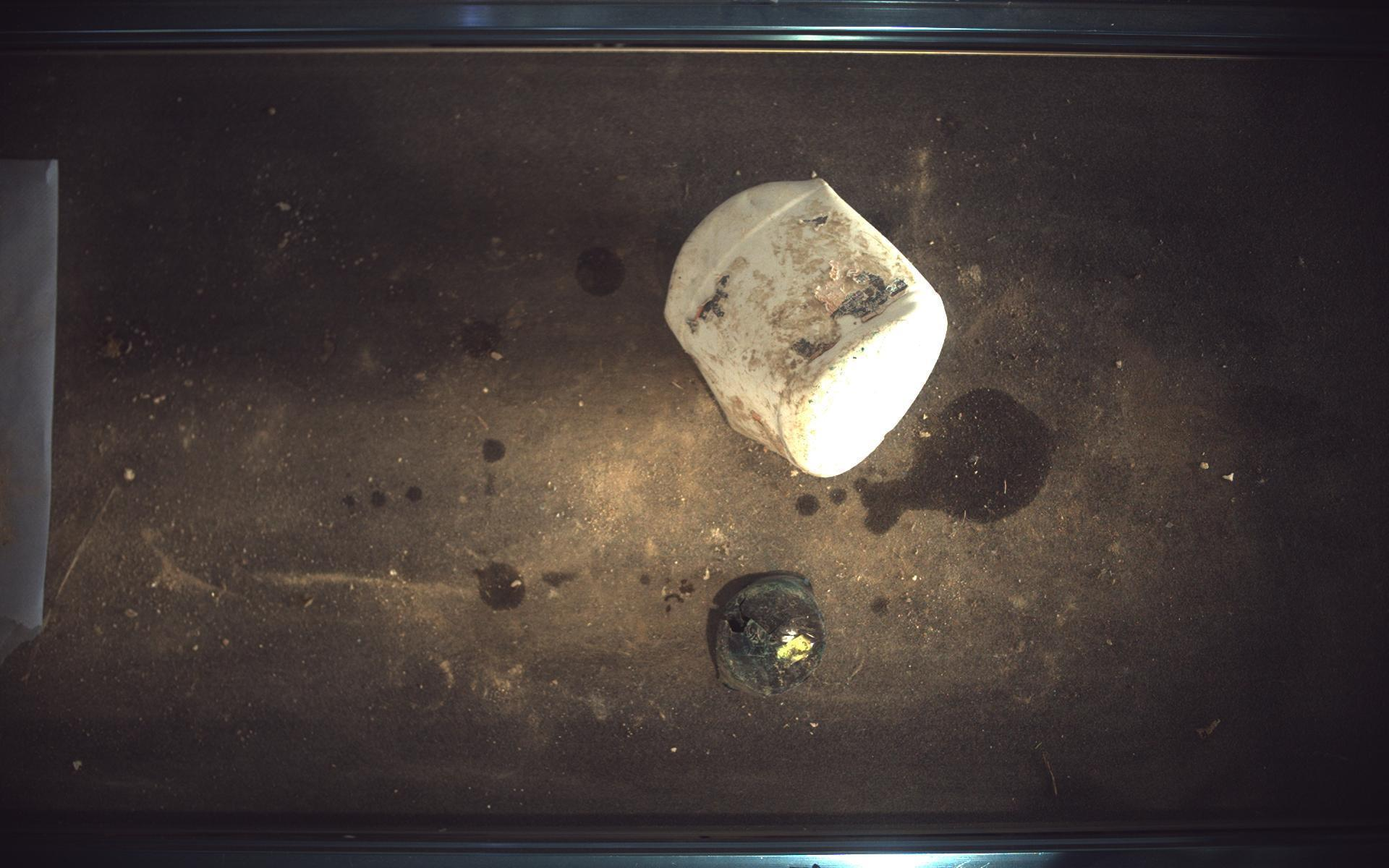general_w: (709, 572, 827, 697)
plastic: (666, 177, 948, 477)
